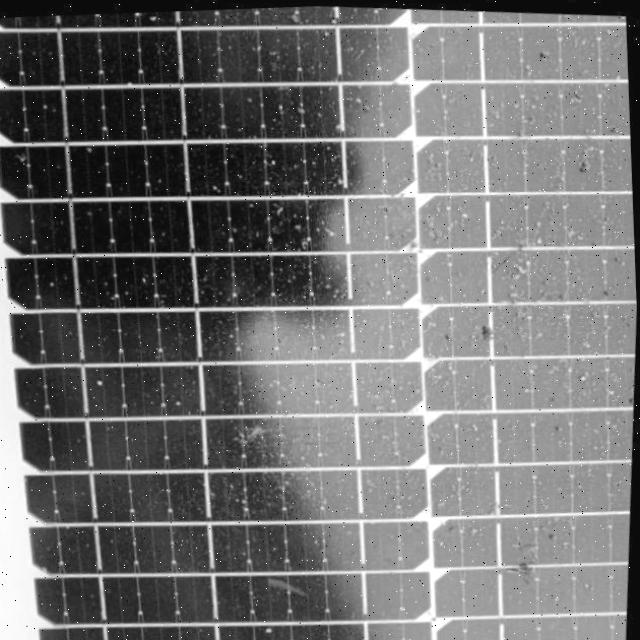Anomaly Solar Panel: (0, 0, 640, 640)
Surface Contaminant: (24, 9, 325, 640), (346, 9, 639, 640)
